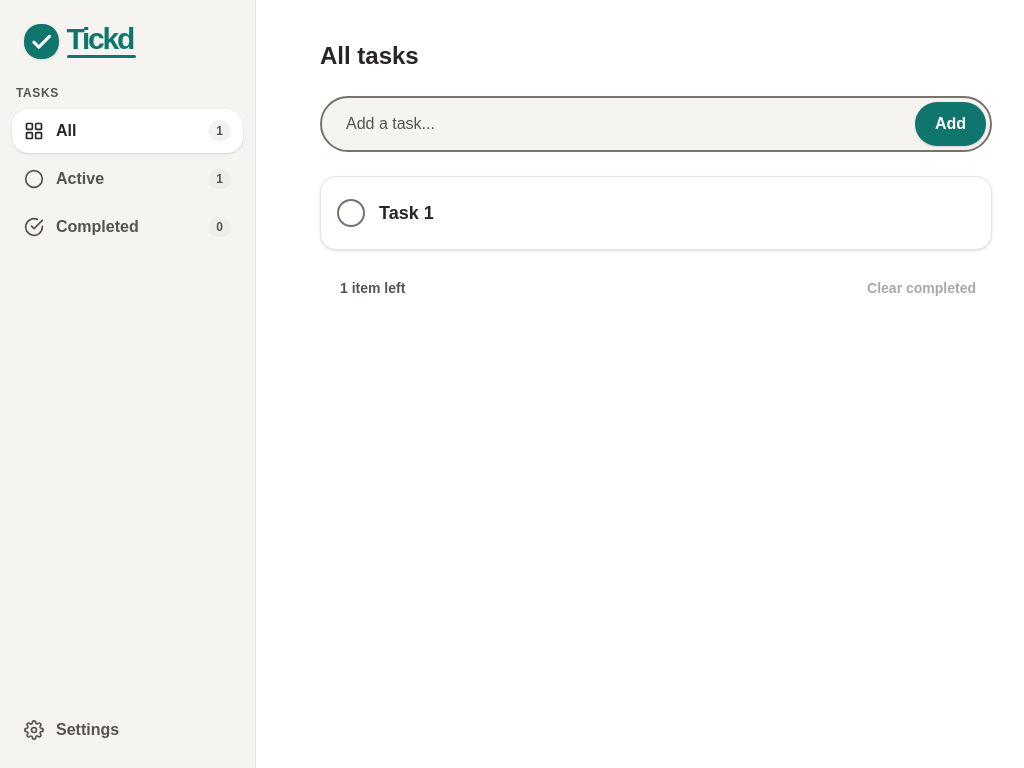
TaskList title editing › clears the empty-title error when the edit field is typed in
Double-click the button "Task 1" at (406, 213), box [379, 191, 929, 235]
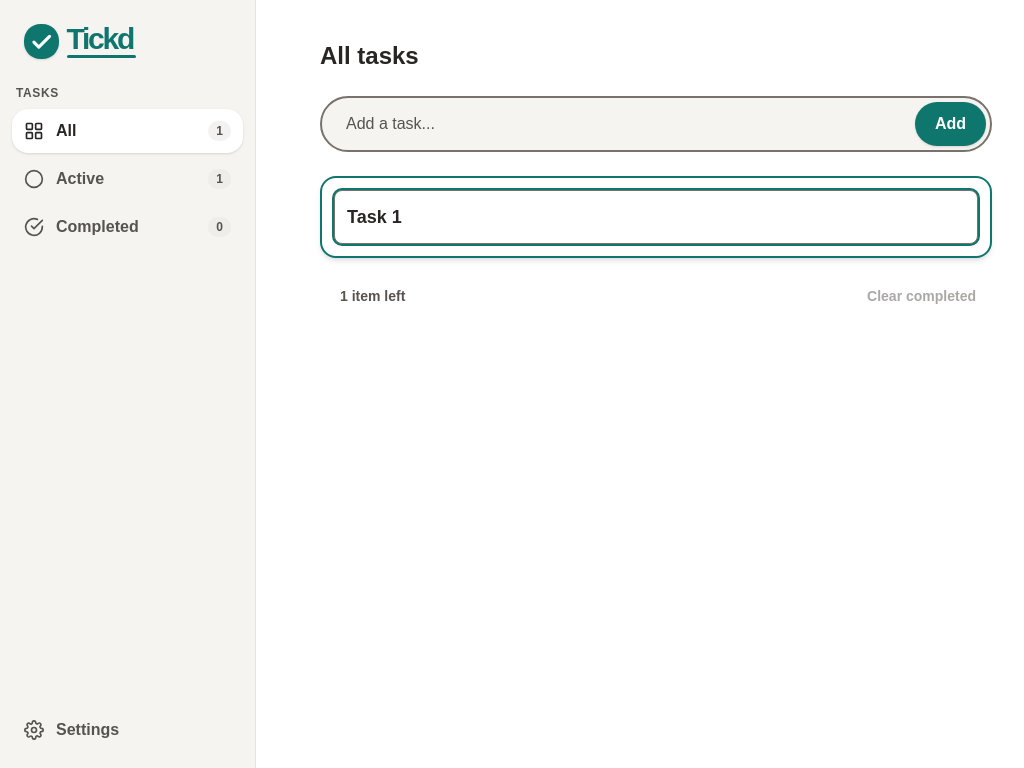
Clear the field named "Edit task" at (656, 217), box [334, 190, 978, 244]
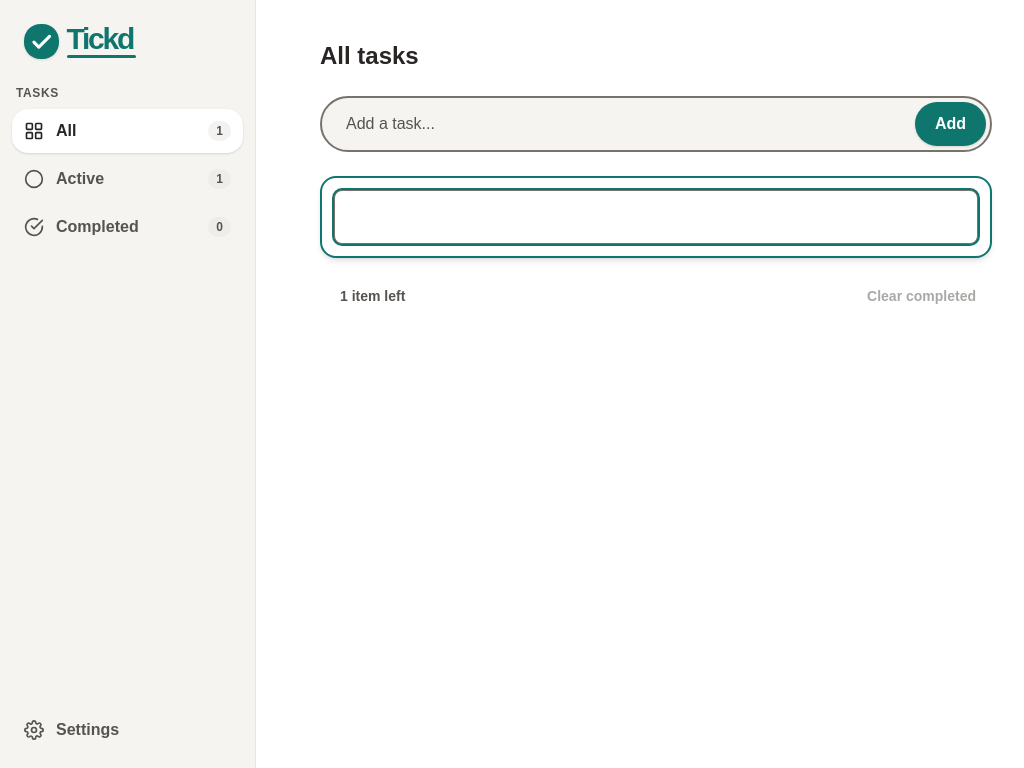
Press Enter
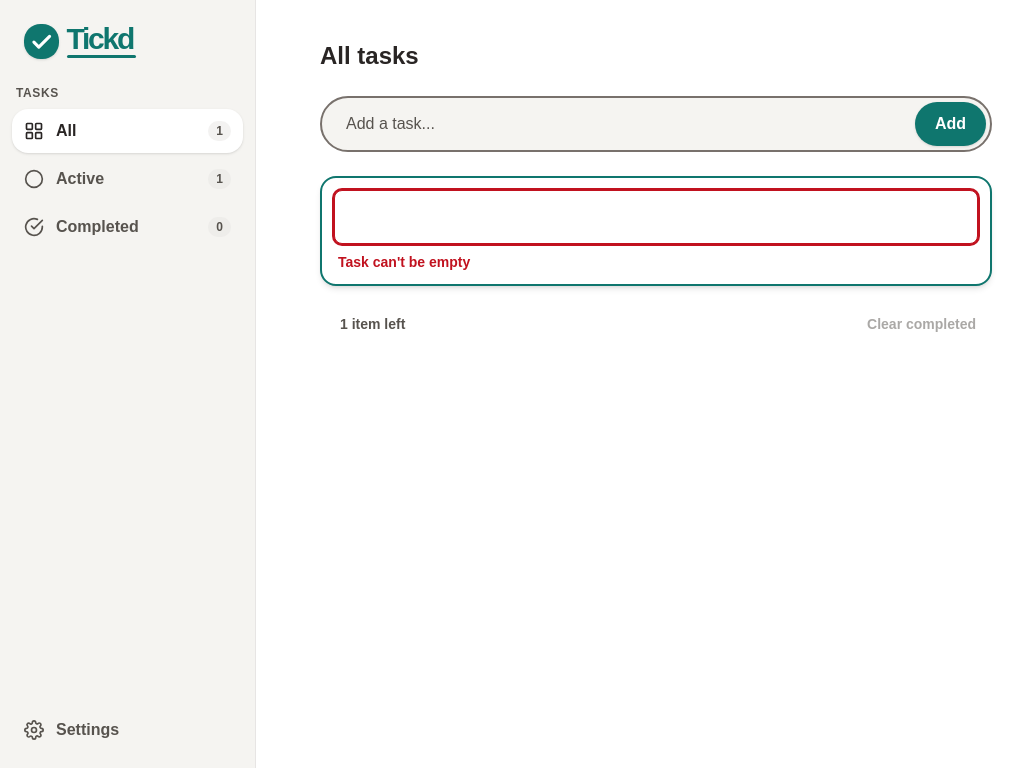
Result: the text "Task can't be empty" is shown at [338, 254, 470, 270]
Type "a" into the field named "Edit task" at (656, 217), box [334, 190, 978, 244]
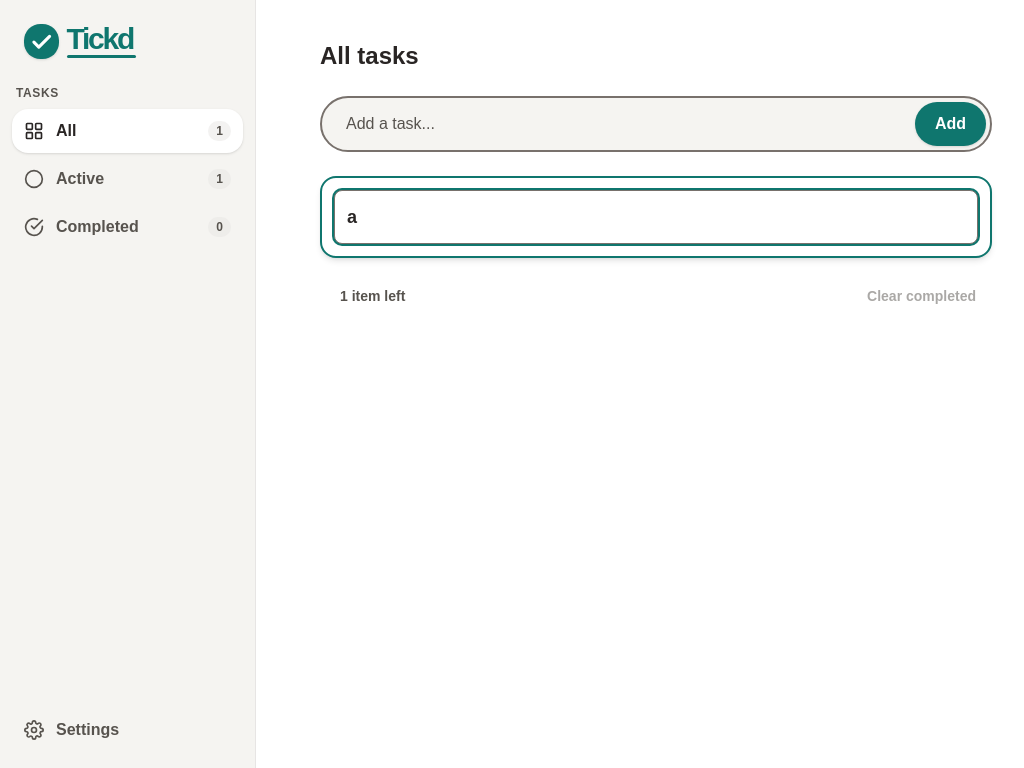
Result: the text "Task can't be empty" is gone
